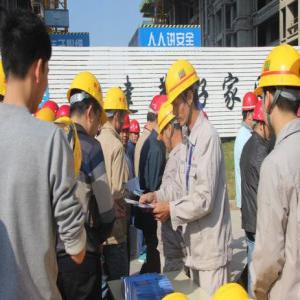none: (2, 8, 53, 119)
red: (254, 97, 273, 141), (242, 91, 259, 128), (119, 114, 131, 146), (130, 118, 142, 146)
yellow: (260, 44, 300, 140), (67, 69, 106, 144), (166, 59, 201, 130), (103, 82, 130, 134), (156, 98, 180, 156)
